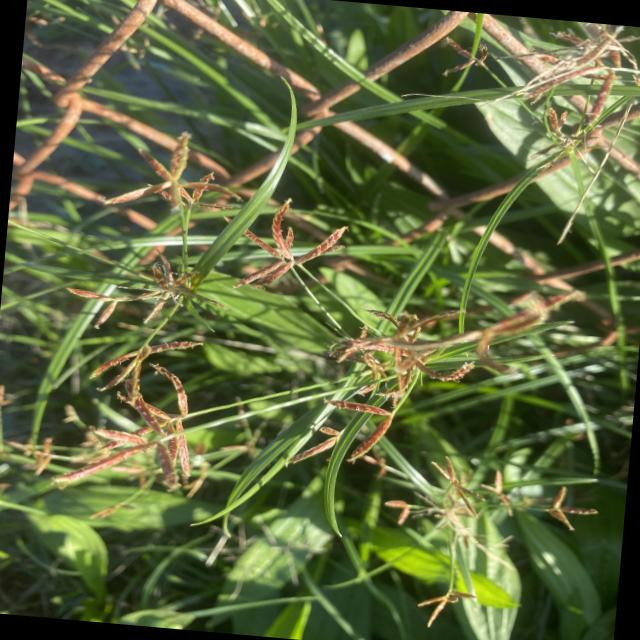cyperus: (55, 125, 362, 346), (276, 284, 500, 496), (425, 10, 640, 229), (376, 443, 600, 628), (36, 340, 236, 514)
